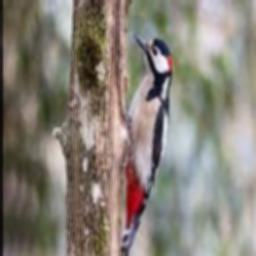Woodpecker: (119, 31, 172, 256)
